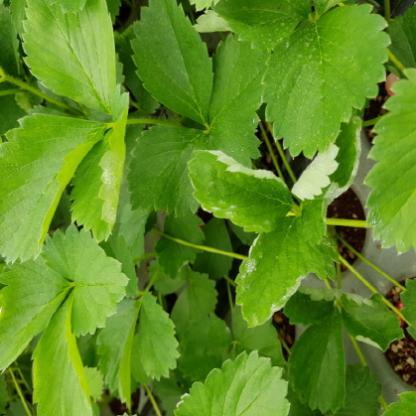Strawberry_Powdery_Mildew_Leaf: (234, 202, 341, 328), (362, 66, 415, 256), (68, 84, 130, 244), (186, 148, 296, 234), (173, 349, 291, 415), (291, 116, 364, 218), (338, 288, 406, 354)
